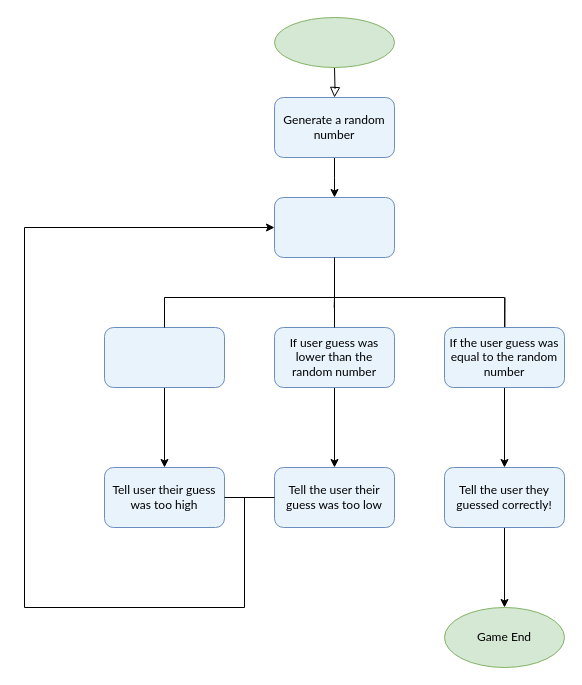
This 582x685 diagram has some shape labels left out. Each missing label, with the centre of its shape:
"Game Start" belongs at (334,42).
"If user guess was higher than the random number" belongs at (164,357).
"User guesses tries to guess the number" belongs at (334,227).
